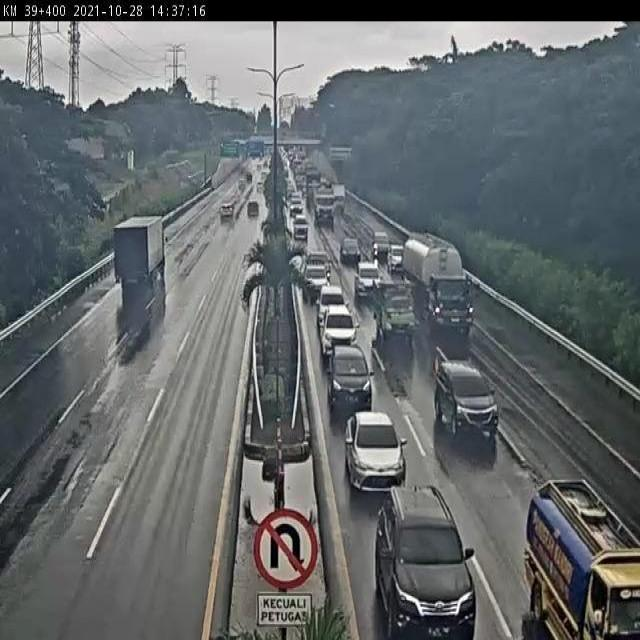big truck: (405, 231, 474, 337)
car: (372, 484, 479, 640), (343, 409, 411, 496), (432, 356, 500, 441), (371, 276, 419, 349), (327, 343, 375, 412), (318, 304, 362, 357), (351, 260, 386, 301), (315, 283, 348, 321), (304, 255, 332, 297), (340, 237, 364, 267), (389, 243, 407, 273), (373, 232, 390, 259), (293, 215, 309, 240)
small truck: (523, 477, 640, 640), (112, 217, 169, 288)
